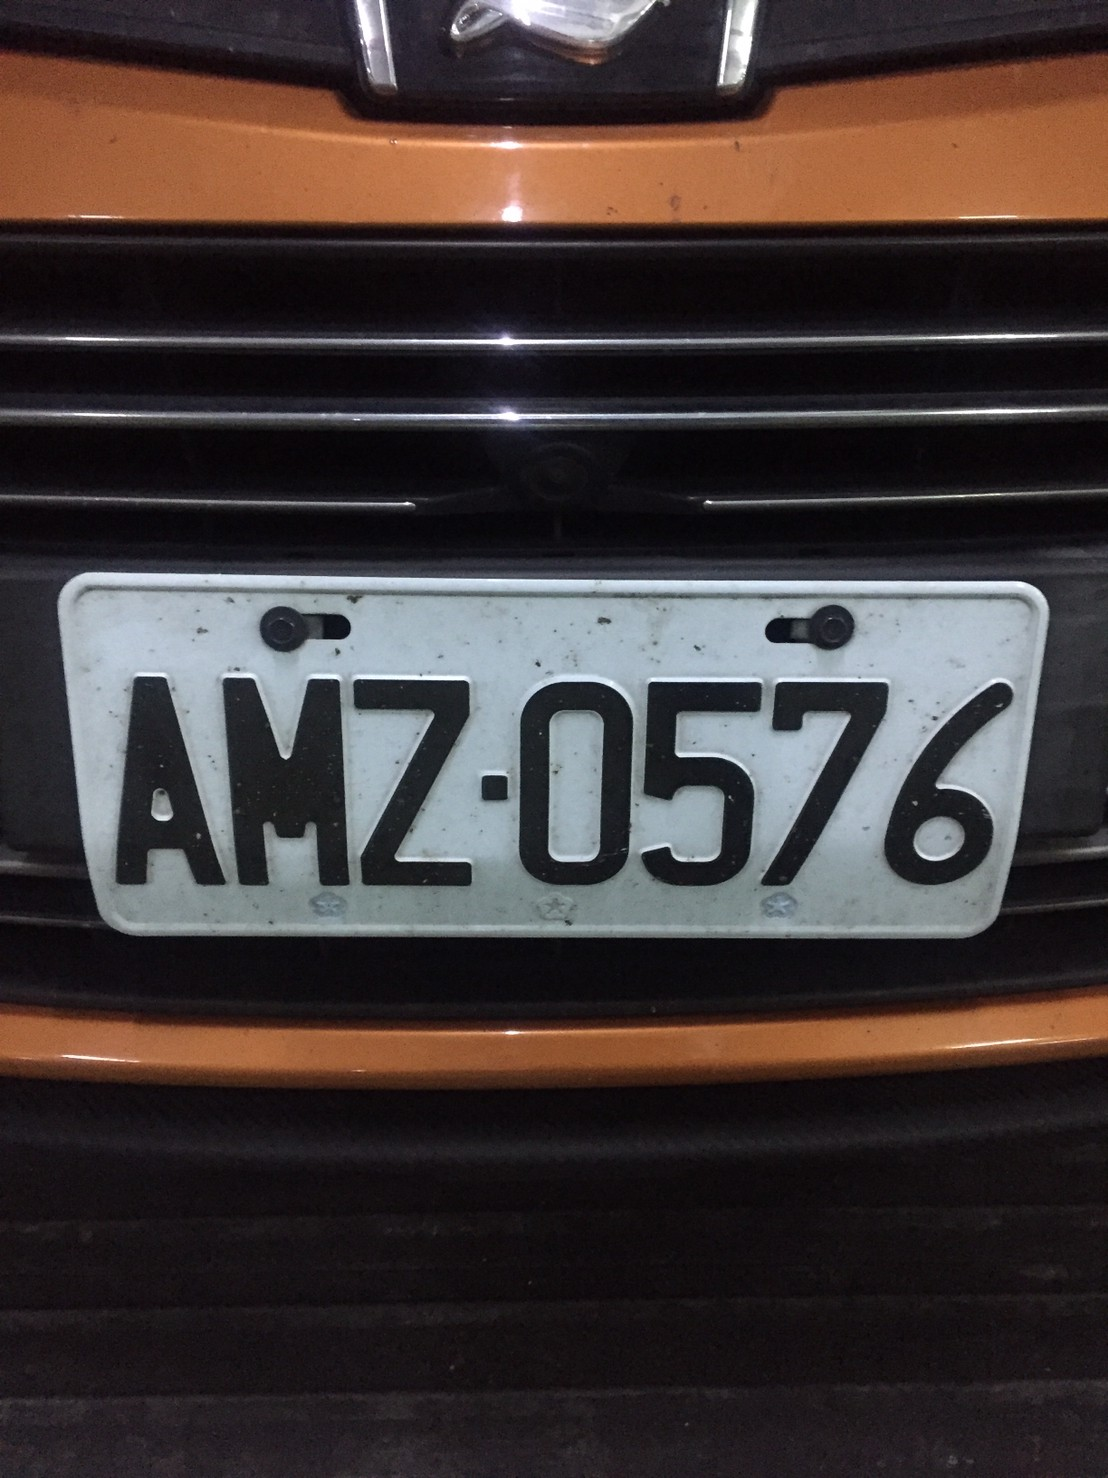LP: (49, 568, 1047, 951)
